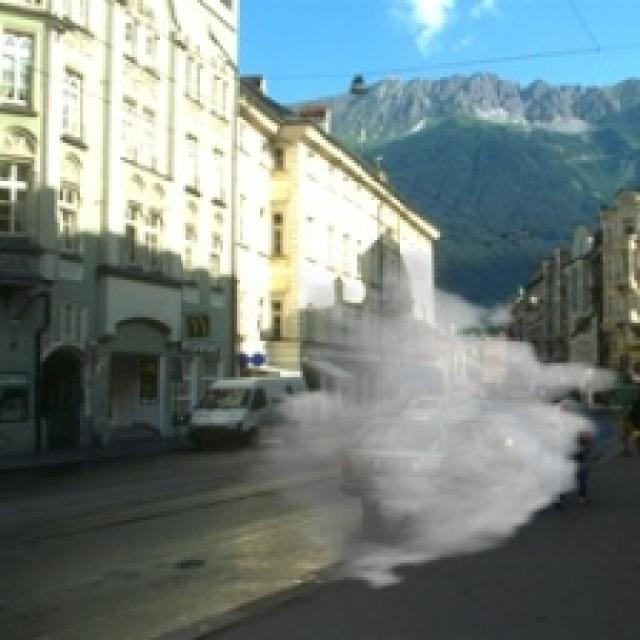smoke: (232, 248, 628, 592)
